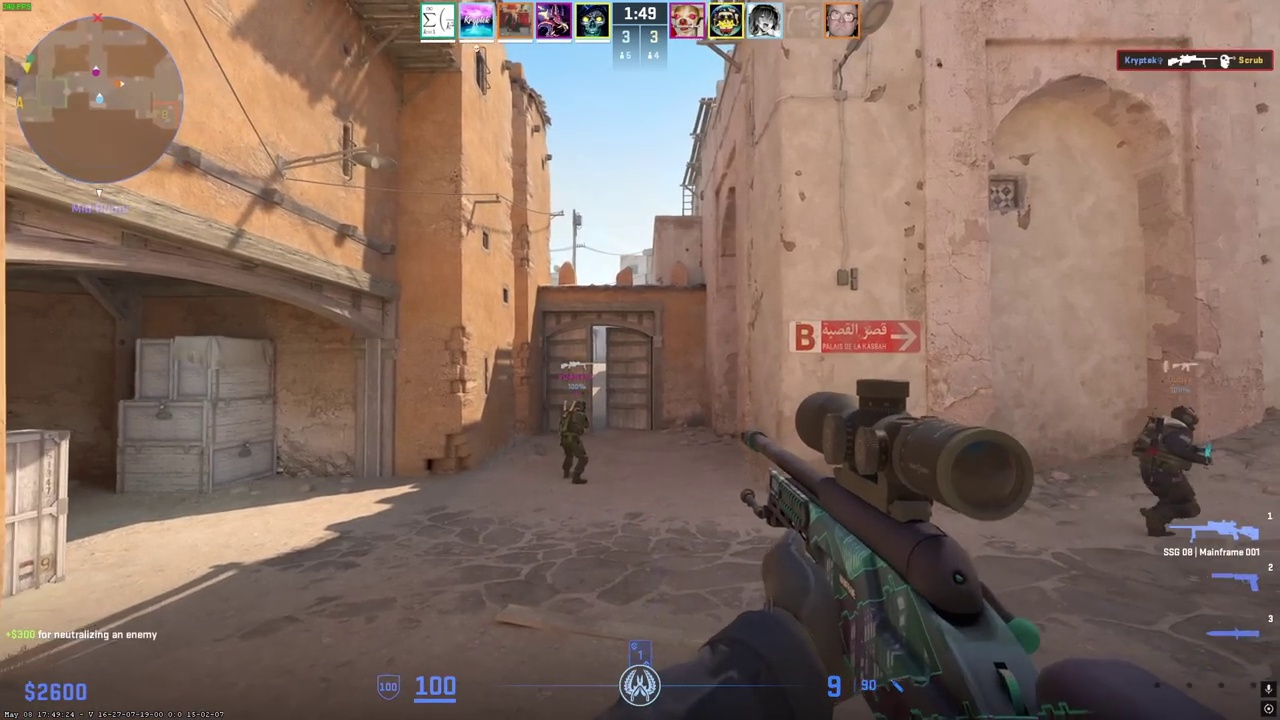CT: (1139, 406, 1208, 537), (560, 400, 590, 484)
